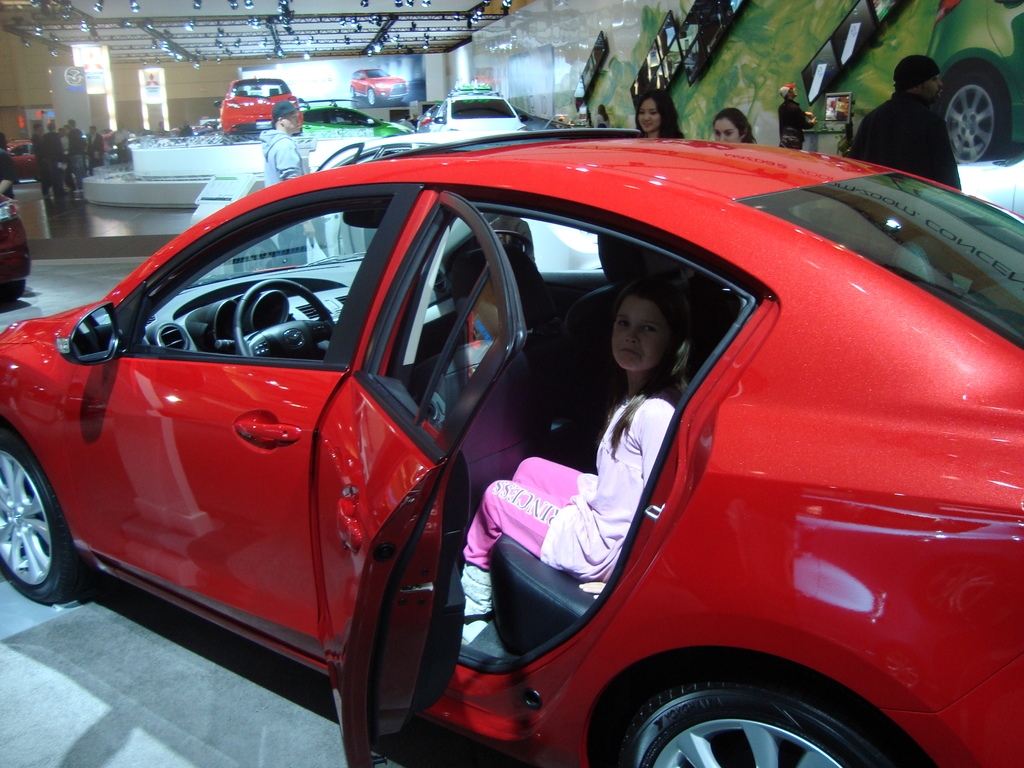Person: (457, 275, 694, 645), (849, 55, 963, 193), (259, 97, 317, 266), (633, 87, 686, 138), (778, 82, 816, 148), (711, 107, 757, 146)
